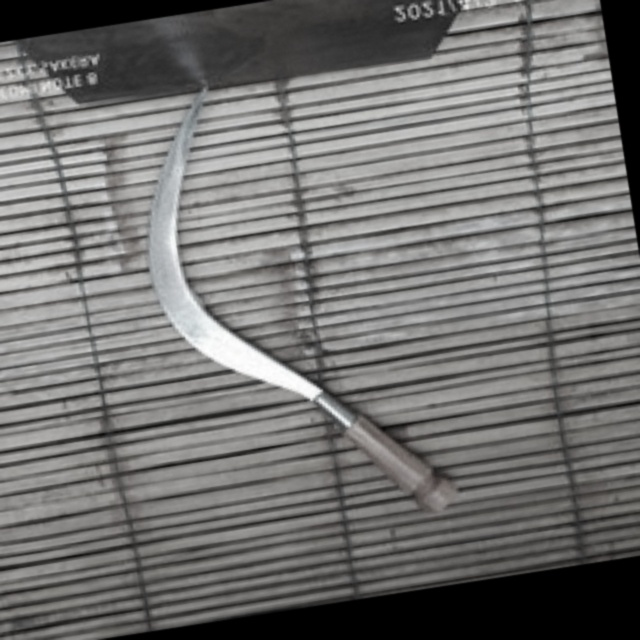Sharp-Object: (115, 57, 468, 560)
